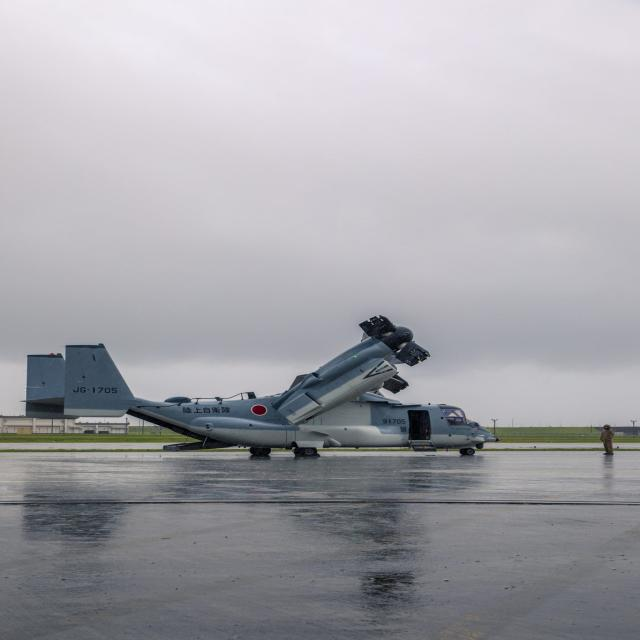MIL_Plane: (19, 315, 502, 456)
